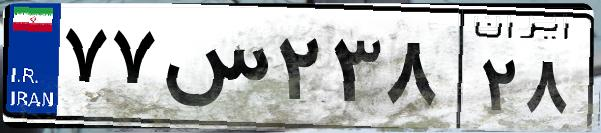2: (270, 28, 330, 110), (475, 38, 525, 113)
3: (330, 28, 385, 110)
7: (57, 26, 110, 100), (110, 28, 158, 98)
8: (385, 28, 445, 110), (525, 38, 570, 115)
س: (158, 20, 270, 120)
